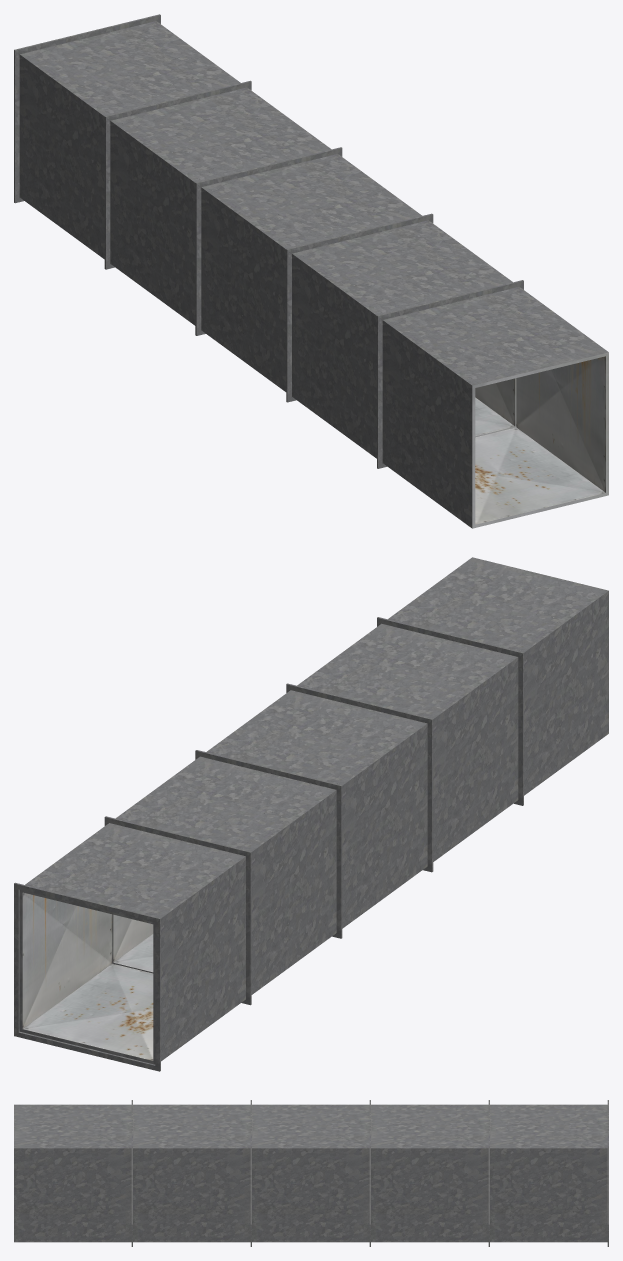
File: duct_straight.glb
3 views of the same model, one above another, from view 1: azimuth 30°, elevation 25°; view 2: azimuth 150°, elevation 25°; view 3: azimuth 270°, elevation 25° (orthographic). The views are drawn at different scales.
Visible parts, largest first — view 1: Cube.004; view 2: Cube.004; view 3: Cube.004.
Part boxes in pixels (bbox=[...]): Cube.004: bbox=[14, 14, 608, 528]; Cube.004: bbox=[14, 557, 608, 1071]; Cube.004: bbox=[14, 1100, 608, 1246].
Bounding box in the file's own units: 1.13 × 1.13 × 6.08.
3 materials, 3 textured.
